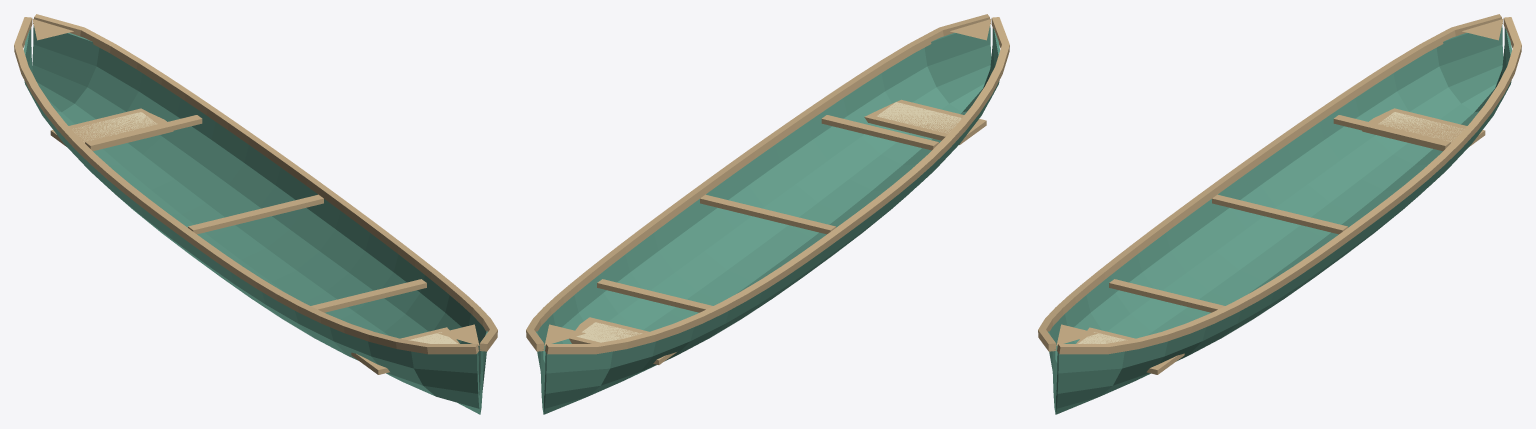
Rendered from canoe.glb.
3 views of the same model, side by side, from view 1: azimuth 30°, elevation 25°; view 2: azimuth 150°, elevation 25°; view 3: azimuth 330°, elevation 25° (orthographic).
Parts seen in each view (by area): view 1: Canoe_hull, Canoe_gunwale, Canoe_gunwale.001, Canoe_seat, Canoe_thwart, Canoe_thwart.001, Canoe_thwart.002, Canoe_cane, Canoe_seat.001, Canoe_deck, Canoe_deck.001; view 2: Canoe_hull, Canoe_gunwale, Canoe_gunwale.001, Canoe_seat.001, Canoe_thwart, Canoe_cane.001, Canoe_thwart.002, Canoe_thwart.001, Canoe_seat, Canoe_cane, Canoe_deck.001, Canoe_deck; view 3: Canoe_hull, Canoe_gunwale.001, Canoe_gunwale, Canoe_seat, Canoe_thwart, Canoe_thwart.001, Canoe_thwart.002, Canoe_cane, Canoe_seat.001, Canoe_deck, Canoe_deck.001.
Boxes of the visible parts, x1,y1,x2,y2 form: Canoe_hull: (24, 25, 487, 414); Canoe_gunwale: (14, 17, 478, 354); Canoe_gunwale.001: (33, 14, 497, 351); Canoe_seat: (50, 108, 173, 151); Canoe_thwart: (188, 194, 323, 234); Canoe_thwart.001: (85, 115, 202, 150); Canoe_thwart.002: (311, 279, 426, 312); Canoe_cane: (72, 112, 157, 142); Canoe_seat.001: (351, 327, 459, 374); Canoe_deck: (32, 19, 73, 40); Canoe_deck.001: (438, 324, 479, 345); Canoe_hull: (536, 25, 999, 414); Canoe_gunwale: (545, 17, 1009, 354); Canoe_gunwale.001: (526, 14, 990, 351); Canoe_seat.001: (864, 99, 986, 144); Canoe_thwart: (700, 194, 835, 234); Canoe_cane.001: (877, 102, 961, 133); Canoe_thwart.002: (821, 115, 938, 150); Canoe_thwart.001: (597, 279, 712, 312); Canoe_seat: (569, 317, 676, 364); Canoe_cane: (576, 322, 642, 342); Canoe_deck.001: (950, 19, 991, 40); Canoe_deck: (544, 324, 585, 345); Canoe_hull: (1048, 25, 1511, 414); Canoe_gunwale.001: (1057, 17, 1521, 354); Canoe_gunwale: (1038, 14, 1502, 351); Canoe_seat: (1362, 108, 1485, 151); Canoe_thwart: (1212, 194, 1347, 234); Canoe_thwart.001: (1333, 115, 1450, 150); Canoe_thwart.002: (1109, 279, 1224, 312); Canoe_cane: (1378, 112, 1464, 141); Canoe_seat.001: (1076, 327, 1184, 374); Canoe_deck: (1462, 19, 1503, 40); Canoe_deck.001: (1056, 324, 1097, 345).
Bounding box in the file's own units: 0.9878 × 0.5714 × 5.03.
